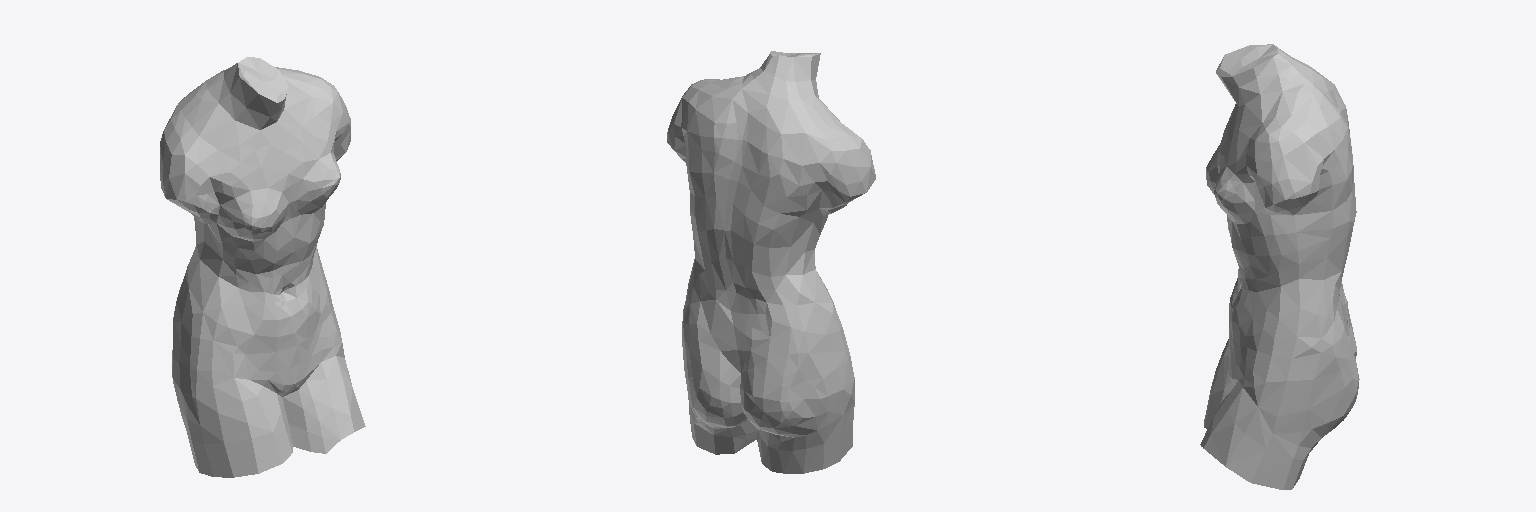
File: venus_lo.obj
3 renders of one model, left to right at view 1: azimuth 30°, elevation 25°; view 2: azimuth 150°, elevation 25°; view 3: azimuth 270°, elevation 25°, orthographic.
Bounding box in the file's own units: 131 × 267 × 95.